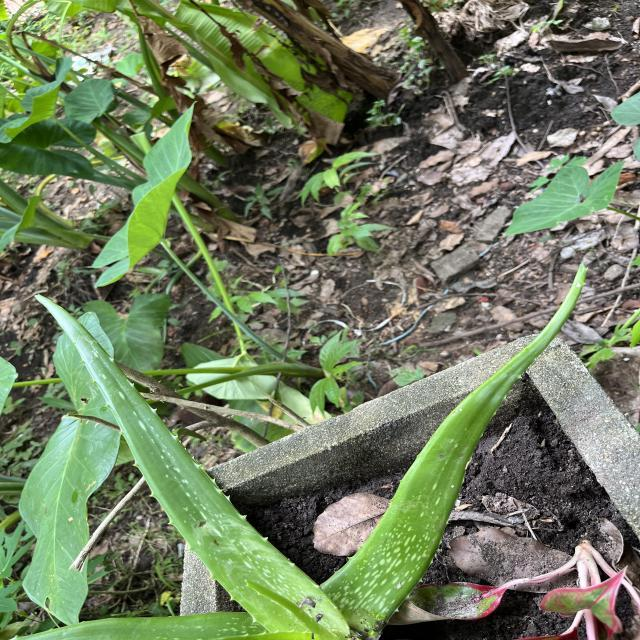Aloe vera: (32, 290, 352, 640), (324, 264, 594, 639)
